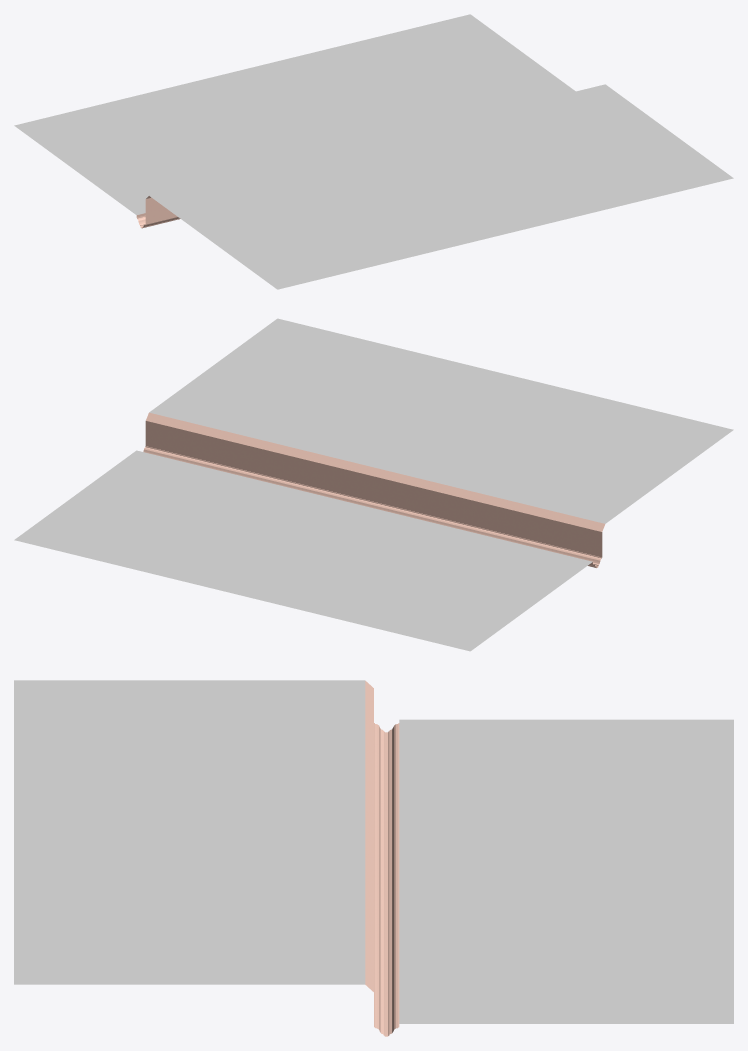
The model's file is Shop_Roof_Indent.fbx.
3 views of the same model, one above another, from view 1: azimuth 30°, elevation 25°; view 2: azimuth 150°, elevation 25°; view 3: azimuth 270°, elevation 25° (orthographic). The views are drawn at different scales.
Parts seen in each view (by area): view 1: Roof_Indent; view 2: Roof_Indent; view 3: Roof_Indent.
Boxes of the visible parts, left/top/right/bottom form: Roof_Indent: left=14, top=14, right=733, bottom=289; Roof_Indent: left=14, top=318, right=733, bottom=651; Roof_Indent: left=14, top=680, right=733, bottom=1036.
Bounding box in the file's own units: 100 × 7.98 × 100.
